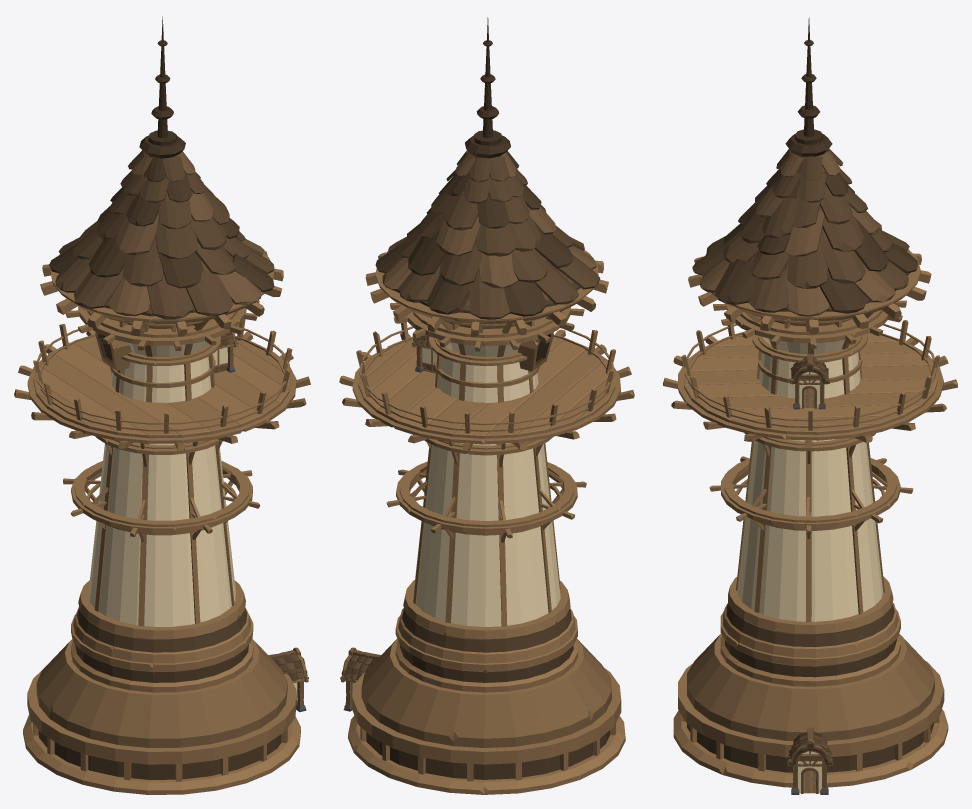
The model's file is SFV_Windmill_002.fbx.
The picture shows the model from 3 angles, left to right: view 1: azimuth 30°, elevation 25°; view 2: azimuth 150°, elevation 25°; view 3: azimuth 270°, elevation 25°; orthographic projection.
Visible parts, largest first — view 1: SFV_Windmill_002; view 2: SFV_Windmill_002; view 3: SFV_Windmill_002.
Boxes of the visible parts, x1,y1,x2,y2 form: SFV_Windmill_002: [14, 16, 310, 794]; SFV_Windmill_002: [339, 17, 634, 794]; SFV_Windmill_002: [663, 17, 957, 794].
Bounding box in the file's own units: 2818 × 7306 × 2727.
